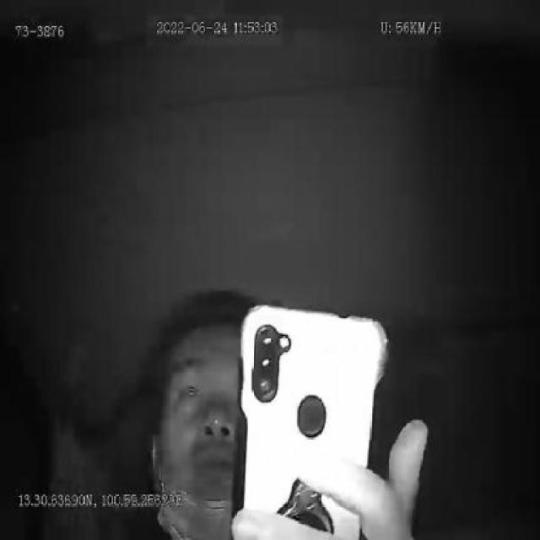phone: (232, 301, 386, 540)
